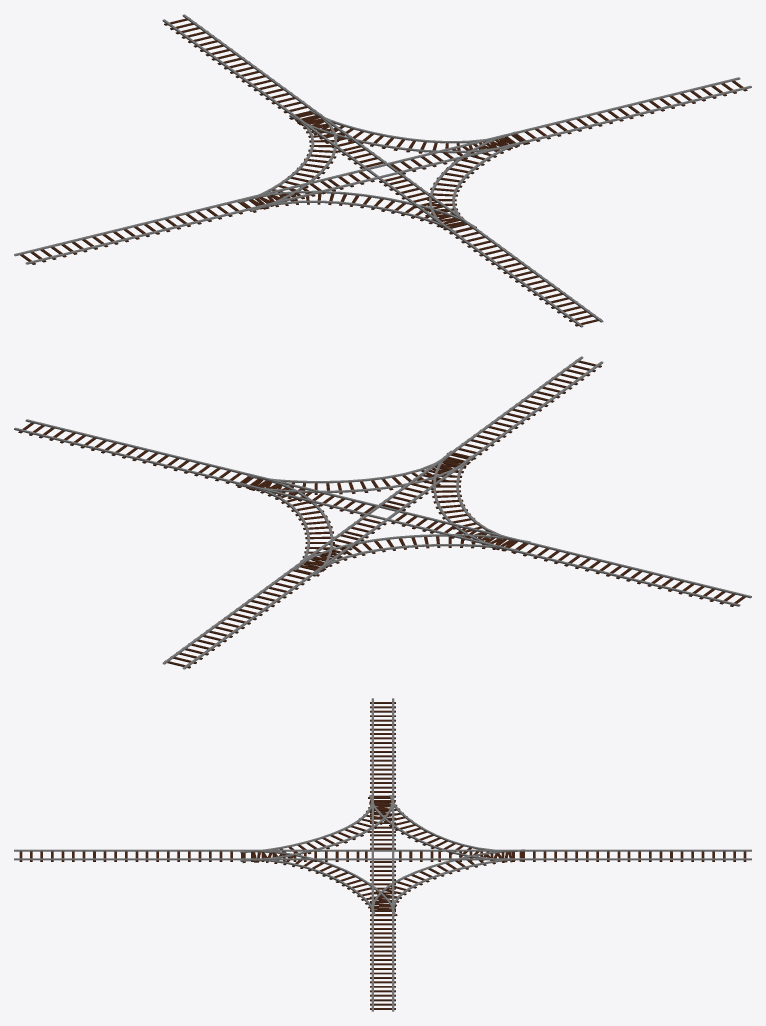
The model's file is Rails_Set.fbx.
3 views of the same model, one above another, from view 1: azimuth 30°, elevation 25°; view 2: azimuth 150°, elevation 25°; view 3: azimuth 270°, elevation 25° (orthographic). The views are drawn at different scales.
Visible parts, largest first — view 1: Rail_Set; view 2: Rail_Set; view 3: Rail_Set.
Part boxes in pixels (box(x1,y1,x2,y2)): Rail_Set: box(14, 14, 751, 327); Rail_Set: box(14, 356, 751, 669); Rail_Set: box(14, 698, 751, 1011).
Size of the model in its own units: 1400 by 5.77 by 1400.
1 material, 1 textured.
